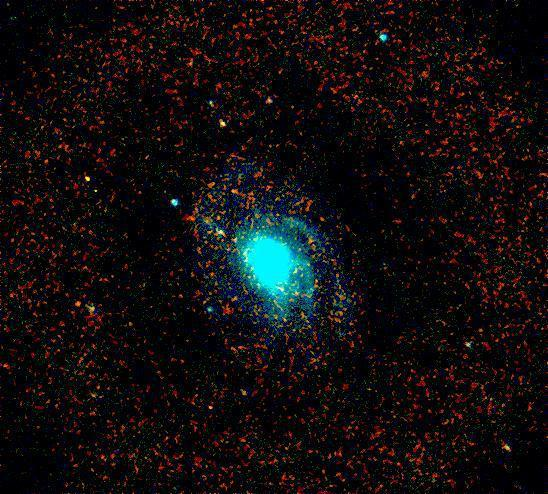star: (60, 287, 90, 317)
